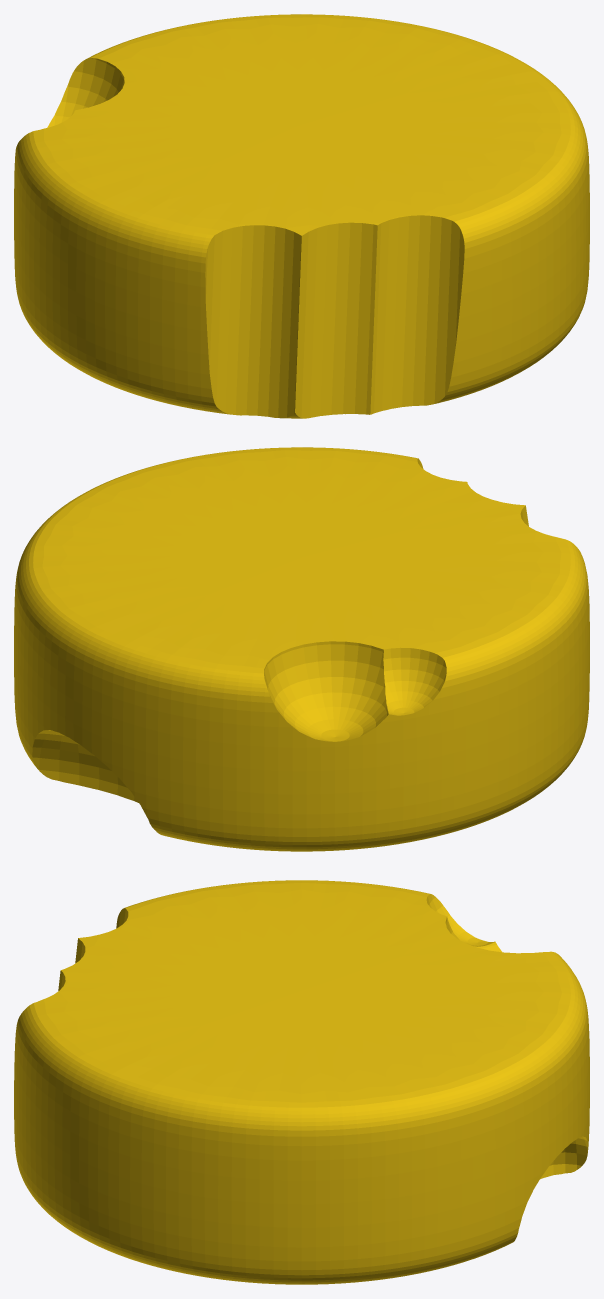
File: cheese_ok.glb
The picture shows the model from 3 angles, top to bottom: view 1: azimuth 30°, elevation 25°; view 2: azimuth 150°, elevation 25°; view 3: azimuth 270°, elevation 25°; orthographic projection.
Visible parts, largest first — view 1: Cylinder; view 2: Cylinder; view 3: Cylinder.
Part boxes in pixels (<box>): Cylinder: <box>14,14,589,418</box>; Cylinder: <box>14,447,589,851</box>; Cylinder: <box>14,880,589,1284</box>.
Bounding box in the file's own units: 1.19 × 0.4196 × 1.19.
